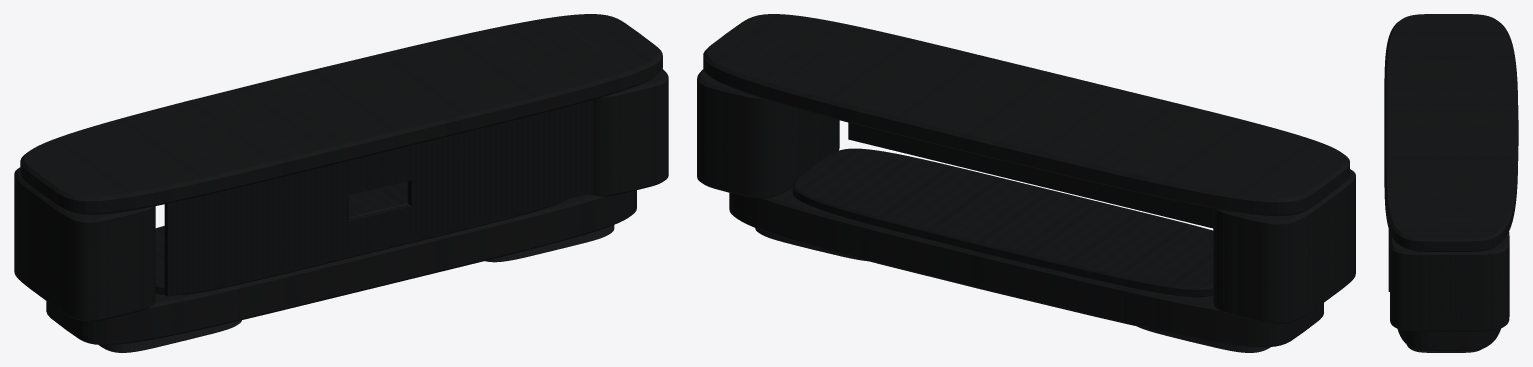
File: Apartment_Entertainment_Unit.glb
3 renders of one model, left to right at view 1: azimuth 30°, elevation 25°; view 2: azimuth 150°, elevation 25°; view 3: azimuth 270°, elevation 25°, orthographic. The views are drawn at different scales.
Parts seen in each view (by area): view 1: Top_Surface, Cabinet_Shell, Back_Panel, Lower_Shelf, Foot_Left, Foot_Right; view 2: Top_Surface, Cabinet_Shell, Lower_Shelf, Back_Panel, Foot_Left; view 3: Top_Surface, Cabinet_Shell, Foot_Right, Back_Panel.
Boxes of the visible parts, bbox=[...] form: Top_Surface: bbox=[20, 14, 662, 214]; Cabinet_Shell: bbox=[14, 69, 668, 344]; Back_Panel: bbox=[164, 100, 592, 296]; Lower_Shelf: bbox=[155, 181, 565, 295]; Foot_Left: bbox=[99, 320, 241, 352]; Foot_Right: bbox=[485, 225, 614, 262]; Top_Surface: bbox=[703, 14, 1349, 215]; Cabinet_Shell: bbox=[697, 69, 1355, 347]; Lower_Shelf: bbox=[792, 148, 1213, 297]; Back_Panel: bbox=[848, 122, 1213, 228]; Foot_Left: bbox=[1137, 326, 1270, 352]; Top_Surface: bbox=[1384, 14, 1518, 251]; Cabinet_Shell: bbox=[1390, 232, 1509, 351]; Foot_Right: bbox=[1406, 344, 1481, 352]; Back_Panel: bbox=[1388, 229, 1389, 291].
Size of the model in its own units: 1.92 by 0.52 by 0.482.
3 materials, 3 textured.
